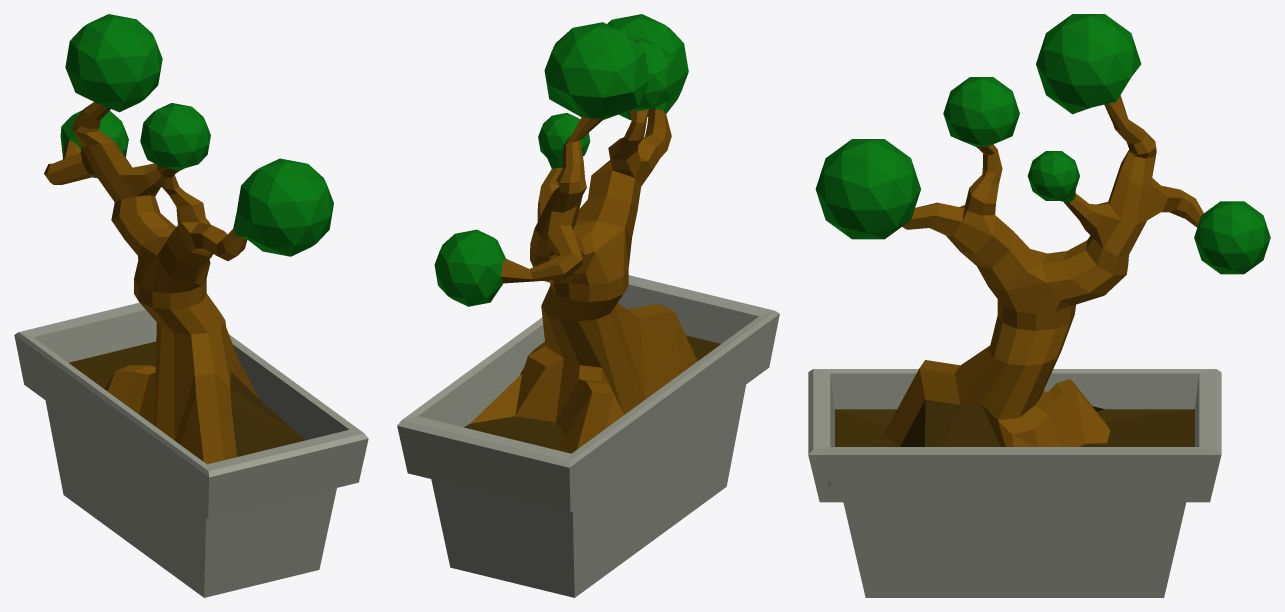
File: banzai.fbx
The picture shows the model from 3 angles, left to right: view 1: azimuth 30°, elevation 25°; view 2: azimuth 150°, elevation 25°; view 3: azimuth 270°, elevation 25°; orthographic projection. The views are drawn at different scales.
Visible parts, largest first — view 1: Cylinder; view 2: Cylinder; view 3: Cylinder.
Part boxes in pixels (bbox=[...]): Cylinder: bbox=[14, 14, 368, 597]; Cylinder: bbox=[397, 14, 779, 597]; Cylinder: bbox=[808, 14, 1270, 597].
Bounding box in the file's own units: 230 × 670 × 531.
